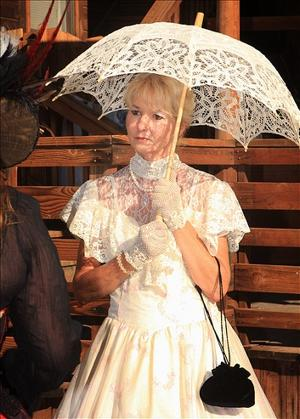person: (54, 73, 277, 419)
